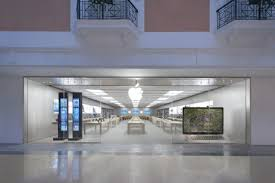apple: (125, 82, 147, 101)
